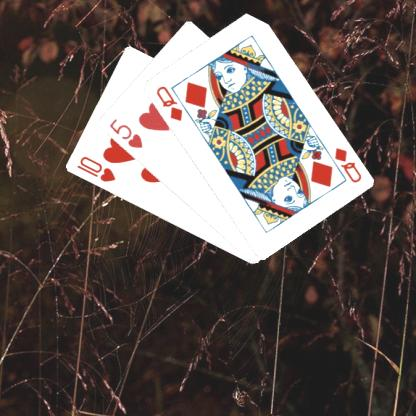10H: (74, 153, 116, 183)
5H: (105, 115, 144, 150)
QD: (152, 83, 184, 123), (331, 144, 363, 184)
